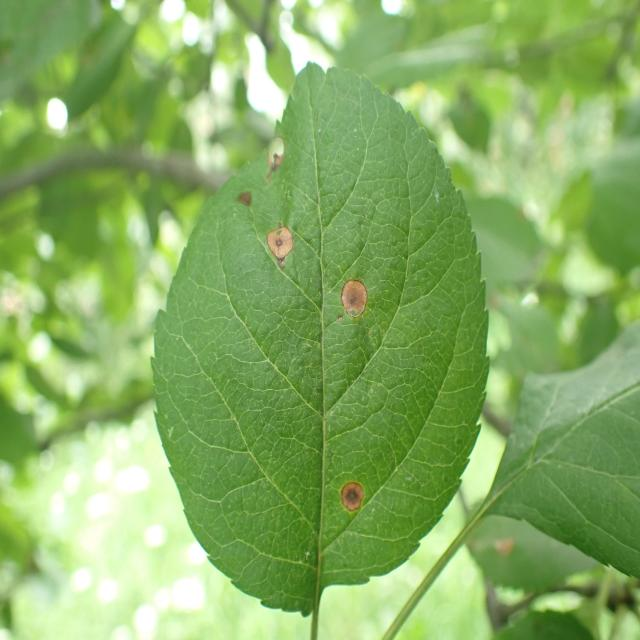frog-eye-leaf-spot: (150, 60, 490, 618)
